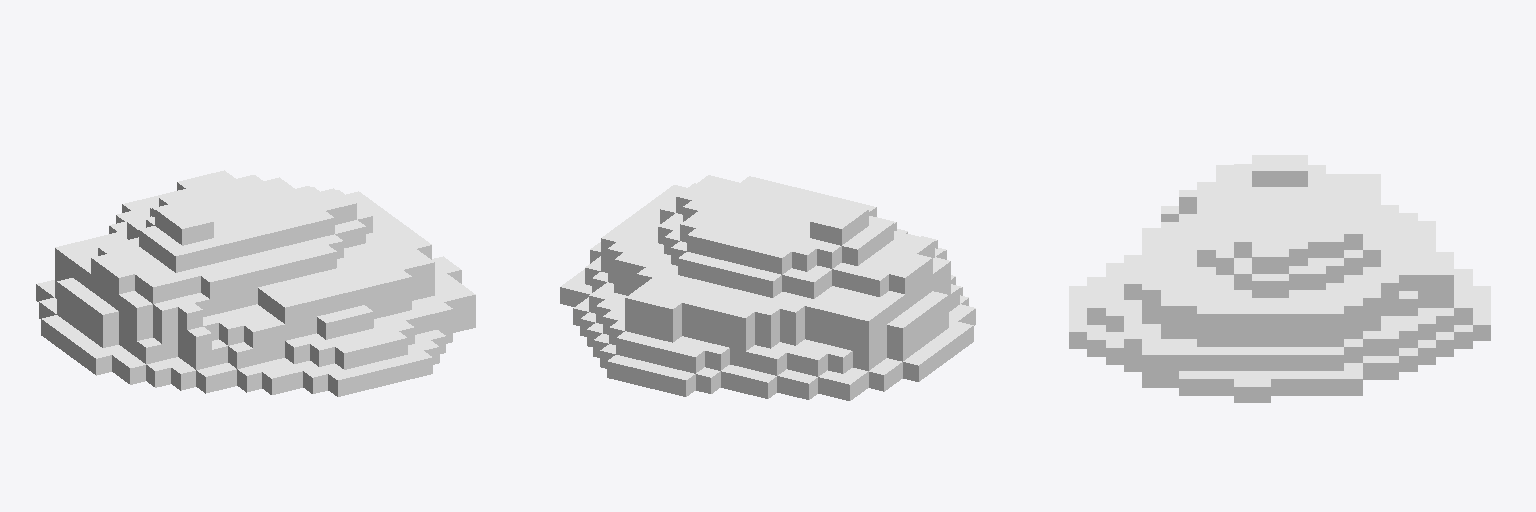
Rendered from stone_004.obj.
The picture shows the model from 3 angles: view 1: azimuth 30°, elevation 25°; view 2: azimuth 150°, elevation 25°; view 3: azimuth 270°, elevation 25°; orthographic projection.
Parts seen in each view (by area): view 1: object 1; view 2: object 1; view 3: object 1.
Boxes of the visible parts, x1,y1,x2,y2 form: object 1: [36, 170, 475, 396]; object 1: [560, 175, 975, 400]; object 1: [1069, 155, 1490, 402].
Size of the model in its own units: 2.3 by 0.7 by 2.3.